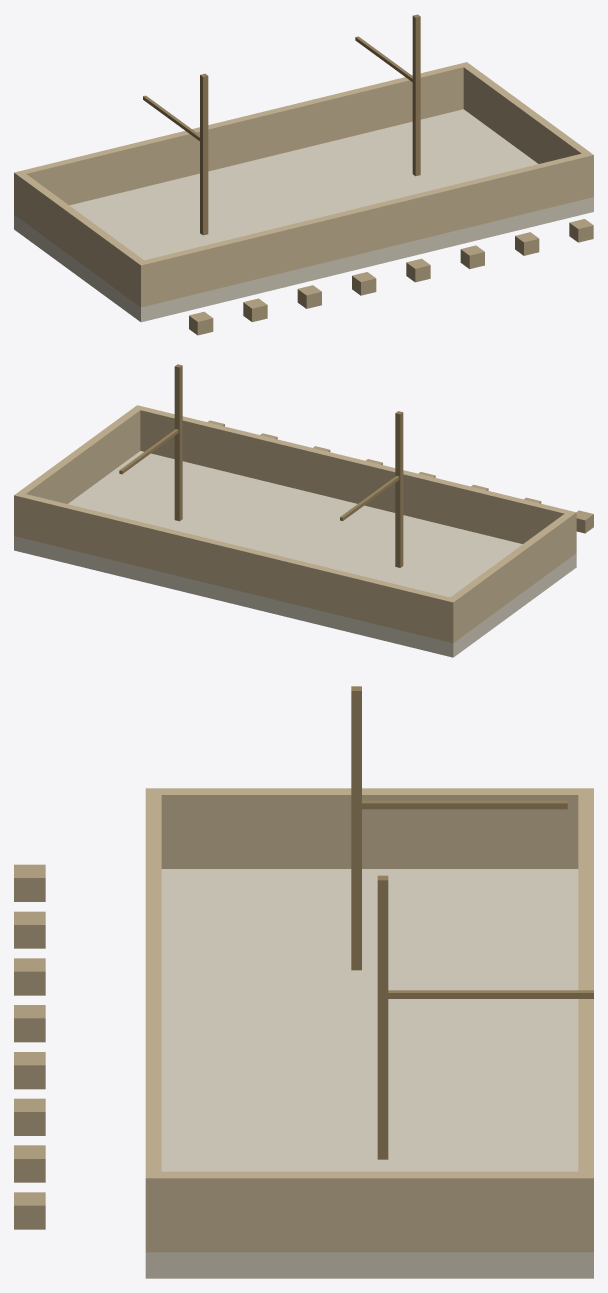
File: mosaic-templars-temple-site-1913.glb
The picture shows the model from 3 angles, top to bottom: view 1: azimuth 30°, elevation 25°; view 2: azimuth 150°, elevation 25°; view 3: azimuth 270°, elevation 25°; orthographic projection. The views are drawn at different scales.
Visible parts, largest first — view 1: mosaic_brick, mosaic_stone, mosaic_brick2, mosaic_timber; view 2: mosaic_brick, mosaic_stone, mosaic_timber, mosaic_brick2; view 3: mosaic_stone, mosaic_brick, mosaic_timber, mosaic_brick2.
Boxes of the visible parts, bbox=[...] form: mosaic_brick: bbox=[14, 62, 593, 307]; mosaic_stone: bbox=[14, 109, 593, 322]; mosaic_brick2: bbox=[189, 219, 593, 335]; mosaic_timber: bbox=[143, 14, 420, 235]; mosaic_brick: bbox=[14, 405, 576, 643]; mosaic_stone: bbox=[14, 451, 576, 657]; mosaic_timber: bbox=[119, 364, 403, 567]; mosaic_brick2: bbox=[207, 420, 593, 533]; mosaic_stone: bbox=[145, 869, 593, 1278]; mosaic_brick: bbox=[145, 788, 593, 1252]; mosaic_timber: bbox=[351, 686, 593, 1159]; mosaic_brick2: bbox=[14, 864, 45, 1229].
Size of the model in its own units: 35 by 12.8 by 22.
